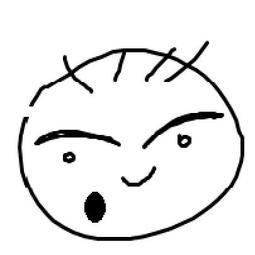eyebrow: (30, 126, 125, 147)
frowning_eyebrow: (136, 107, 226, 149)
nose: (111, 162, 165, 191)
open_mouth: (78, 186, 116, 227)
small_eye: (60, 148, 76, 169), (174, 132, 193, 149)
